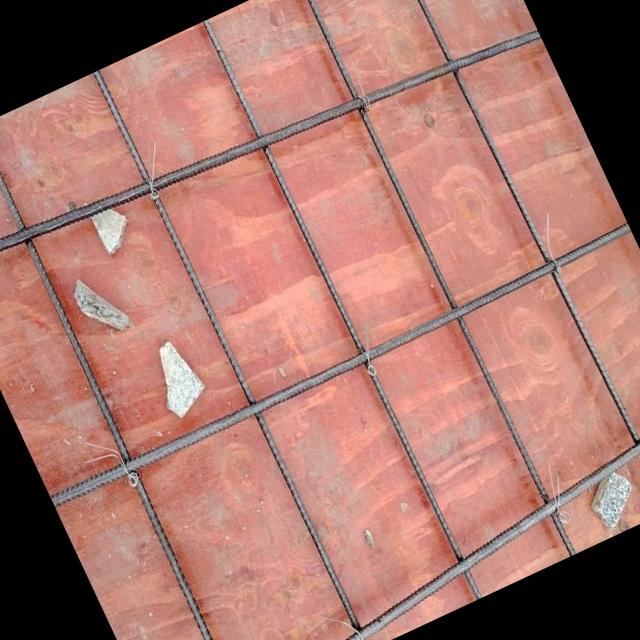ribbed bar: (48, 222, 636, 510), (0, 0, 542, 309), (201, 18, 482, 602), (91, 69, 371, 640), (297, 0, 576, 556), (384, 0, 640, 516), (0, 125, 250, 640), (210, 395, 640, 640)
